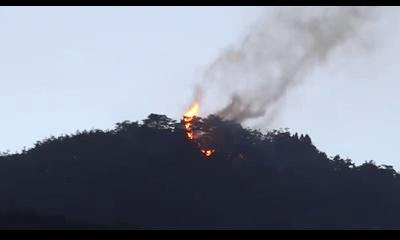fire: (186, 104, 198, 116)
smoke: (220, 93, 270, 119)
